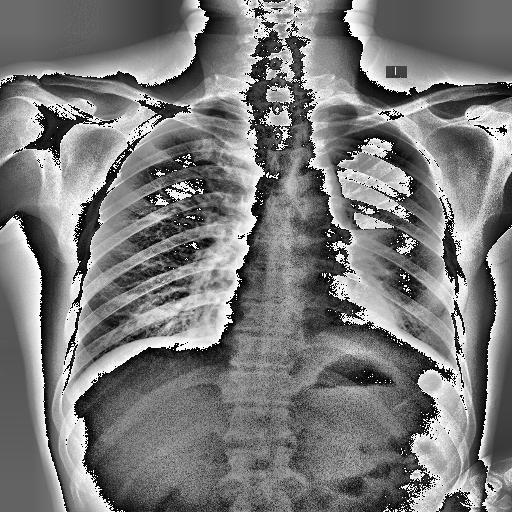1- Atelectasis: (303, 144, 395, 264)
12- Pneumothorax: (324, 108, 446, 230)
9- Other lesion: (315, 108, 440, 230)
